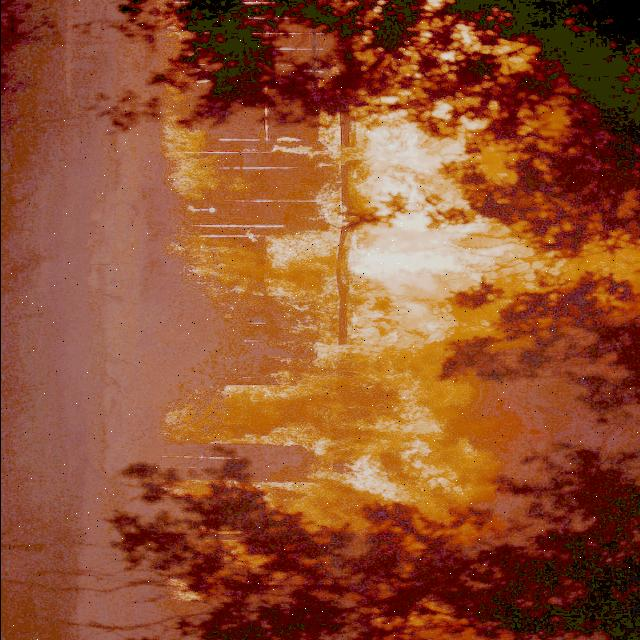api: (155, 464, 384, 537), (167, 228, 341, 318), (344, 121, 469, 220), (152, 101, 260, 215), (329, 232, 502, 295), (325, 296, 481, 359), (325, 449, 432, 522), (212, 535, 276, 576), (163, 573, 212, 615)
asap: (136, 368, 413, 451)
